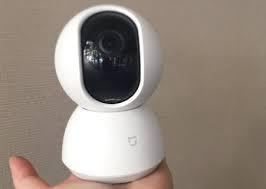maru: (54, 1, 168, 113)
